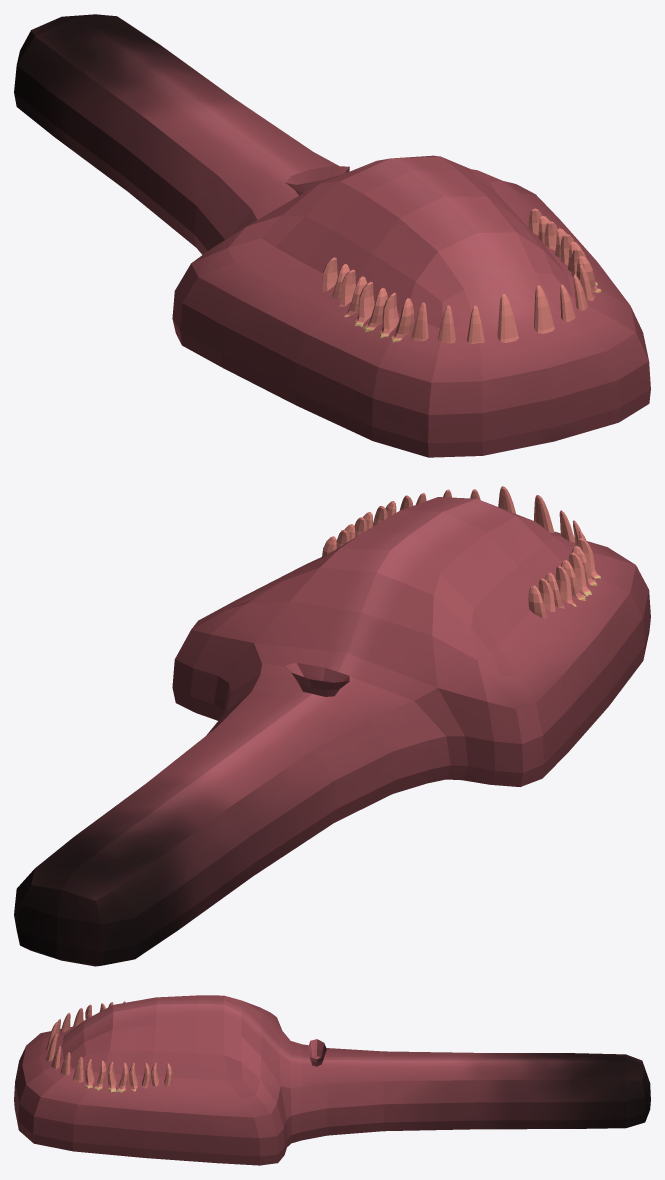
Rendered from Arena texturizada.fbx.
3 renders of one model, top to bottom at view 1: azimuth 30°, elevation 25°; view 2: azimuth 150°, elevation 25°; view 3: azimuth 270°, elevation 25°, orthographic. The views are drawn at different scales.
Parts seen in each view (by area): view 1: Cube.039, Cube.012, Cube.011, Cube.041, Cube.010, Cube.015, Cube.032, Cube.008; view 2: Cube.039, Cube.041, Cube.008, Cube.011, Cube.010; view 3: Cube.039, Cube.036, Cube.035, Cube.041, Cube.037, Cube.
Part boxes in pixels (<box>): Cube.039: <box>14,14,650,457</box>; Cube.012: <box>379,292,414,342</box>; Cube.011: <box>355,281,387,332</box>; Cube.041: <box>285,166,349,195</box>; Cube.010: <box>339,269,367,317</box>; Cube.015: <box>497,294,518,342</box>; Cube.032: <box>534,285,554,333</box>; Cube.008: <box>322,257,349,298</box>; Cube.039: <box>14,497,650,966</box>; Cube.041: <box>285,663,349,696</box>; Cube.008: <box>528,578,555,618</box>; Cube.011: <box>561,552,591,600</box>; Cube.010: <box>545,565,576,608</box>; Cube.039: <box>14,995,650,1165</box>; Cube.036: <box>107,1061,128,1092</box>; Cube.035: <box>85,1059,106,1090</box>; Cube.041: <box>307,1039,326,1066</box>; Cube.037: <box>129,1063,150,1091</box>; Cube: <box>151,1063,172,1086</box>.
Bounding box in the file's own units: 1932 × 894 × 4578.
Materials: 2 (2 with a texture image).
